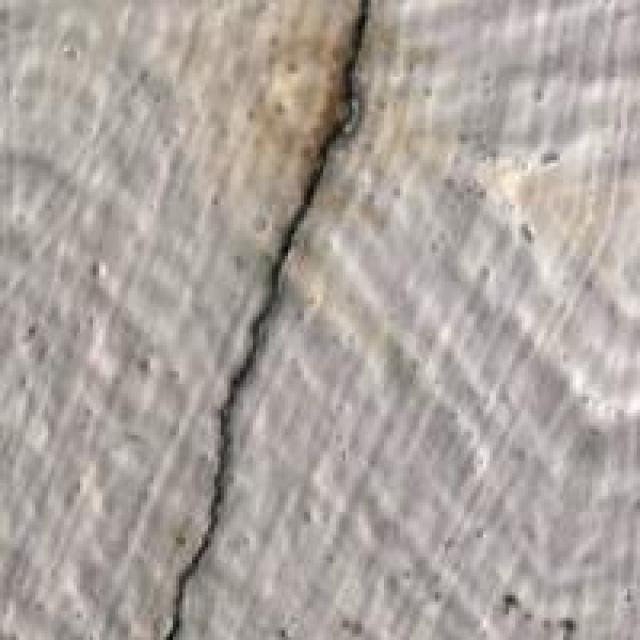crack: (160, 0, 378, 637)
